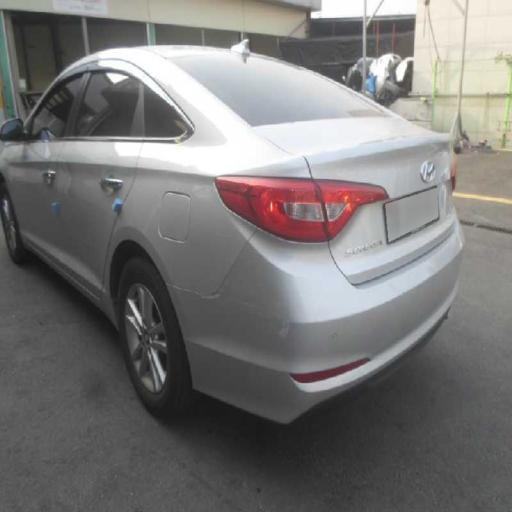scratch: (216, 244, 334, 406)
